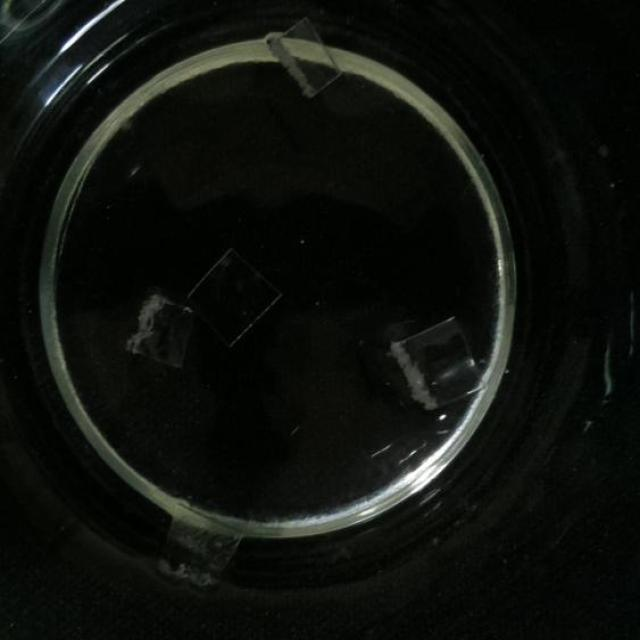fiber: (186, 247, 284, 350), (386, 314, 486, 411), (154, 496, 244, 585), (267, 16, 342, 102), (125, 290, 194, 370)
